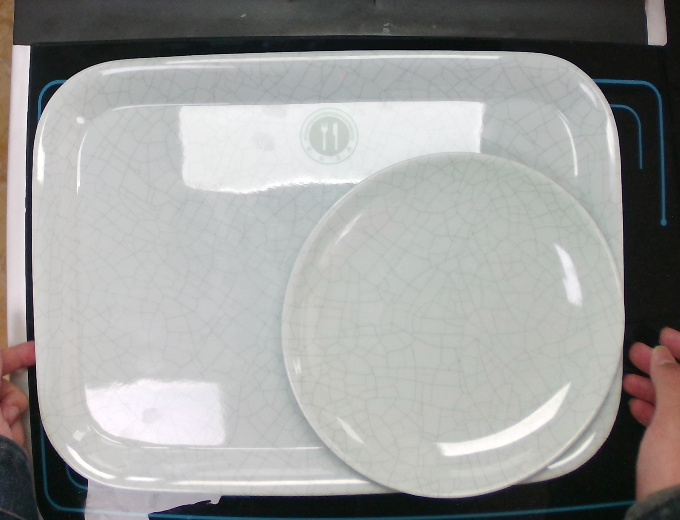JYsf-Da_Yuan_Pan: (279, 149, 628, 503)
